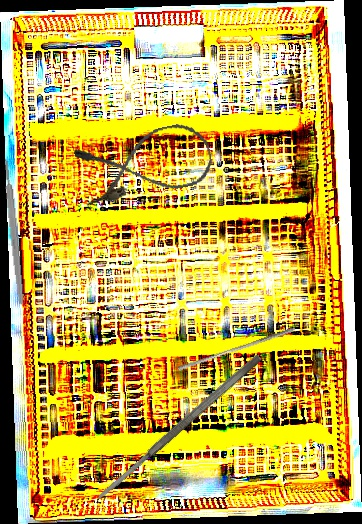Cannula: (72, 118, 217, 209)
Pusher: (177, 322, 296, 375)
Scalpel Handle: (2, 158, 26, 306)
Spatula Surgical: (94, 353, 264, 502)
